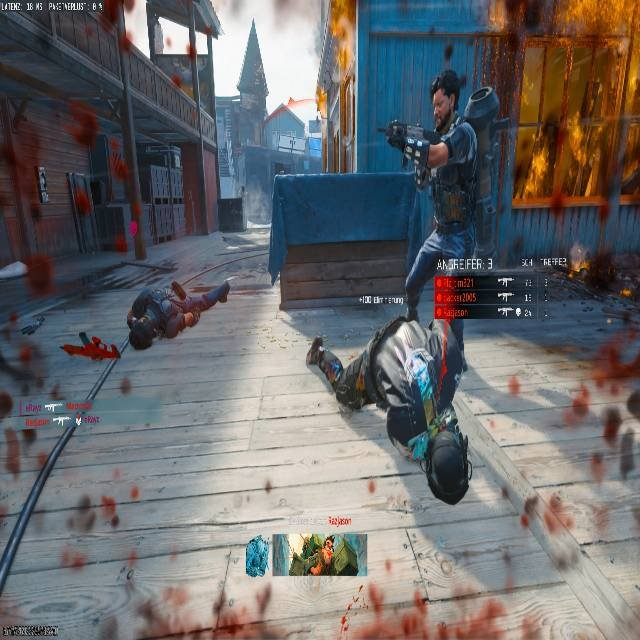head: (429, 69, 462, 125), (129, 320, 156, 350)
player: (384, 69, 486, 325)
